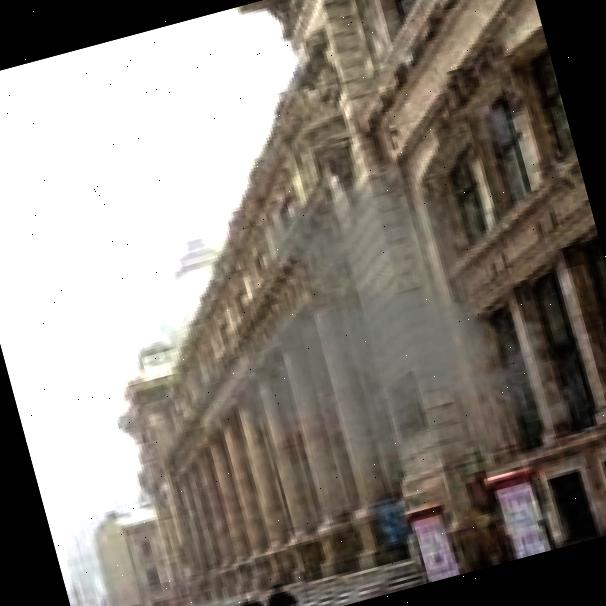smoke: (126, 127, 606, 566)
